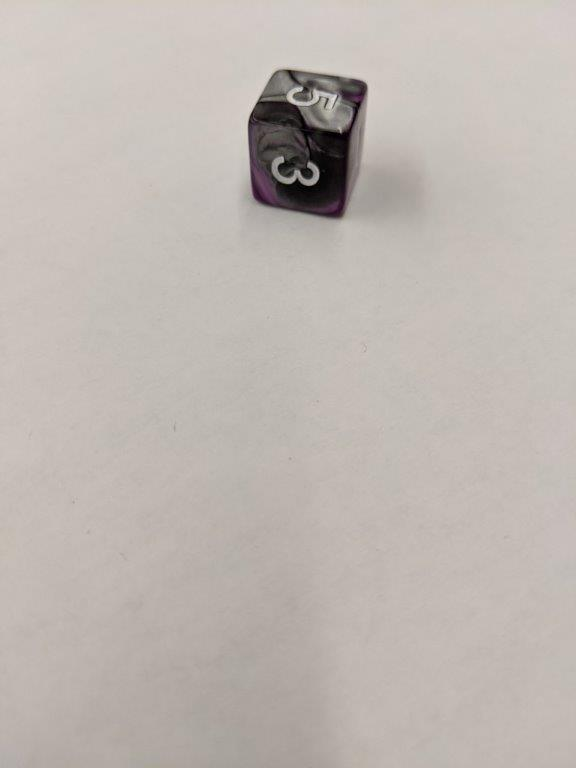d6-5: (247, 63, 370, 221)
